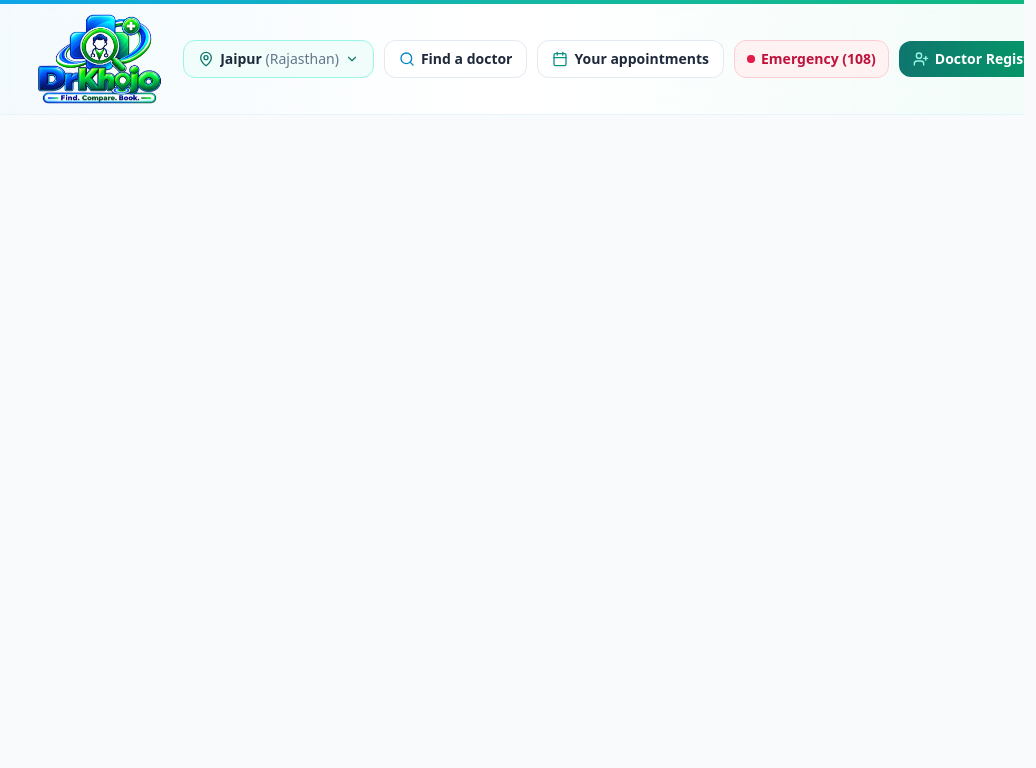
Header Component › allows clicking location selector dropdown to view cities without overlapping
The width and height of the screenshot is (1036, 768).
Click the button with aria-label "Select city and state" at (278, 59), box x1=183 y1=40 x2=374 y2=78
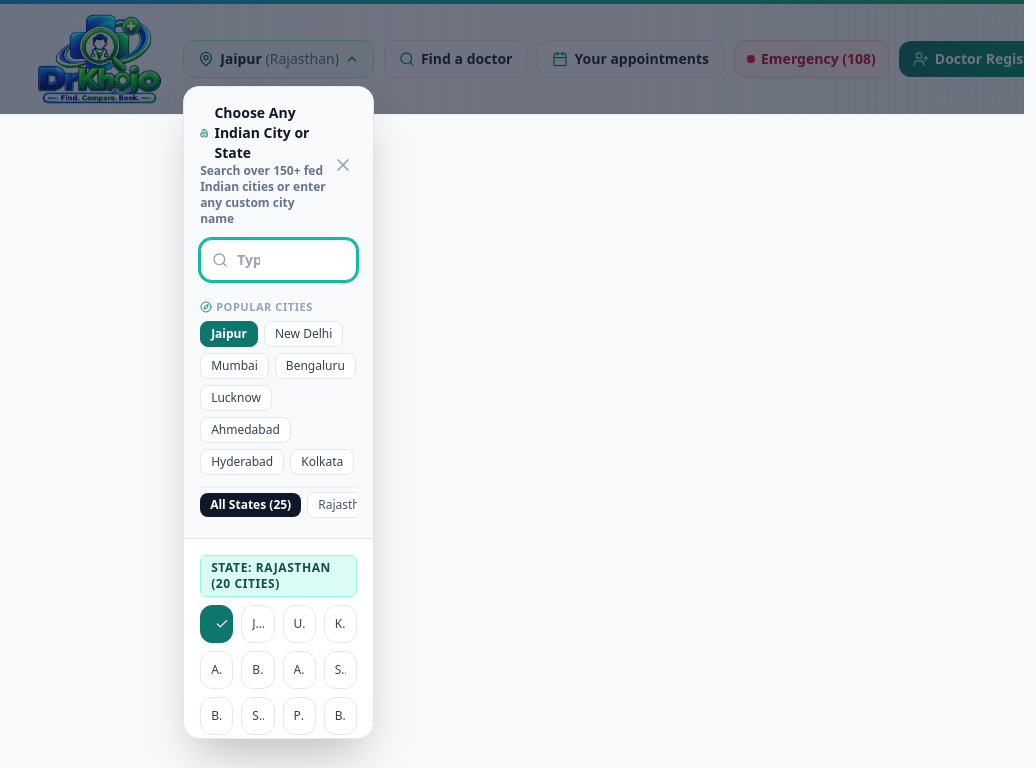
expect the heading "Choose Any Indian City or State" is shown: met, box x1=200 y1=103 x2=309 y2=162
expect the field with placeholder "Type any Indian city name" is shown: met, box x1=200 y1=239 x2=357 y2=281
